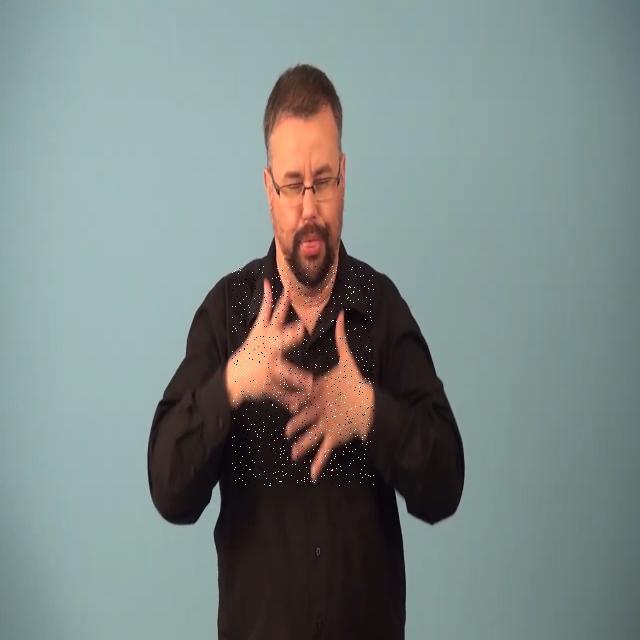juicy: (232, 266, 374, 486)
